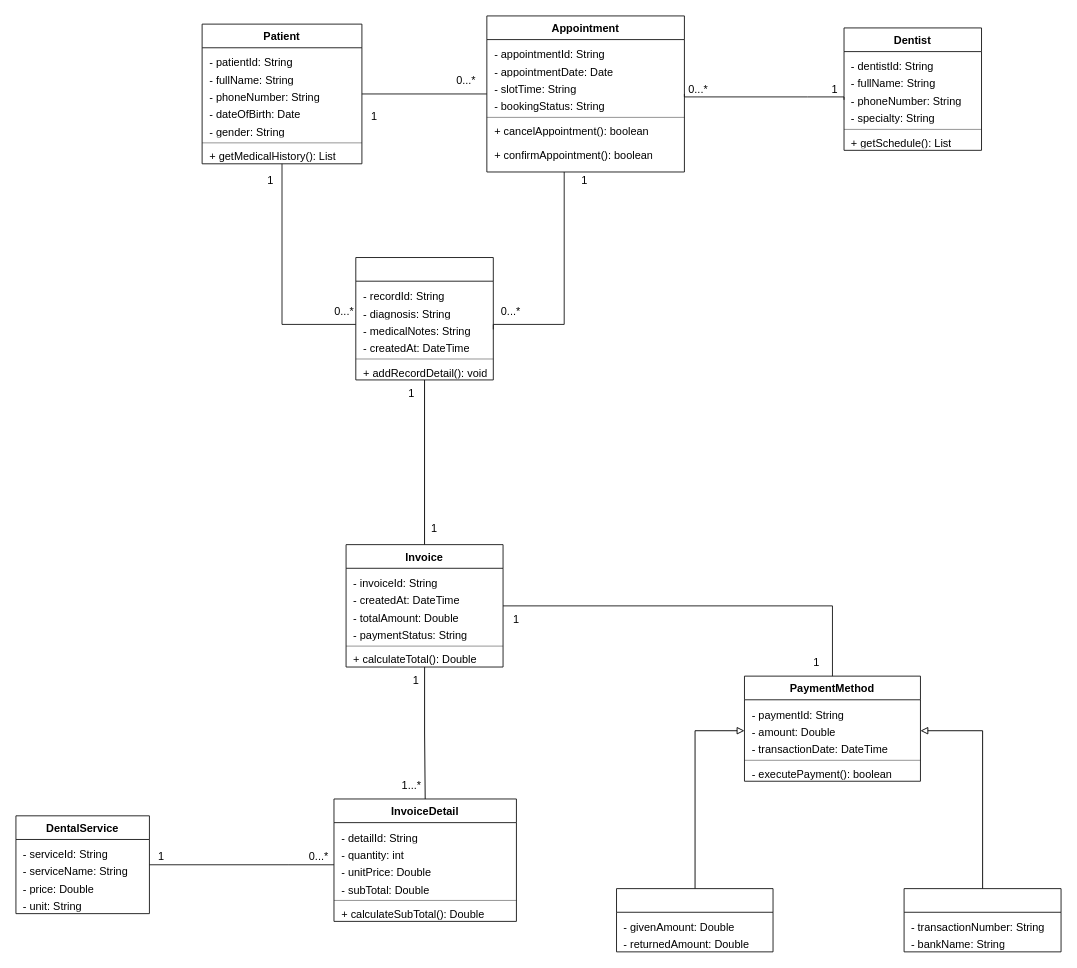
The diagram is 1077 pixels wide and 968 high, and some of its shapes have lost their labels. The box of each missing label's shape, as (x1, y1, x2, y2) in pixels:
CashPayment: (616, 888, 773, 952)
MedicalRecord: (355, 257, 493, 380)
TransferPayment: (903, 888, 1061, 952)
